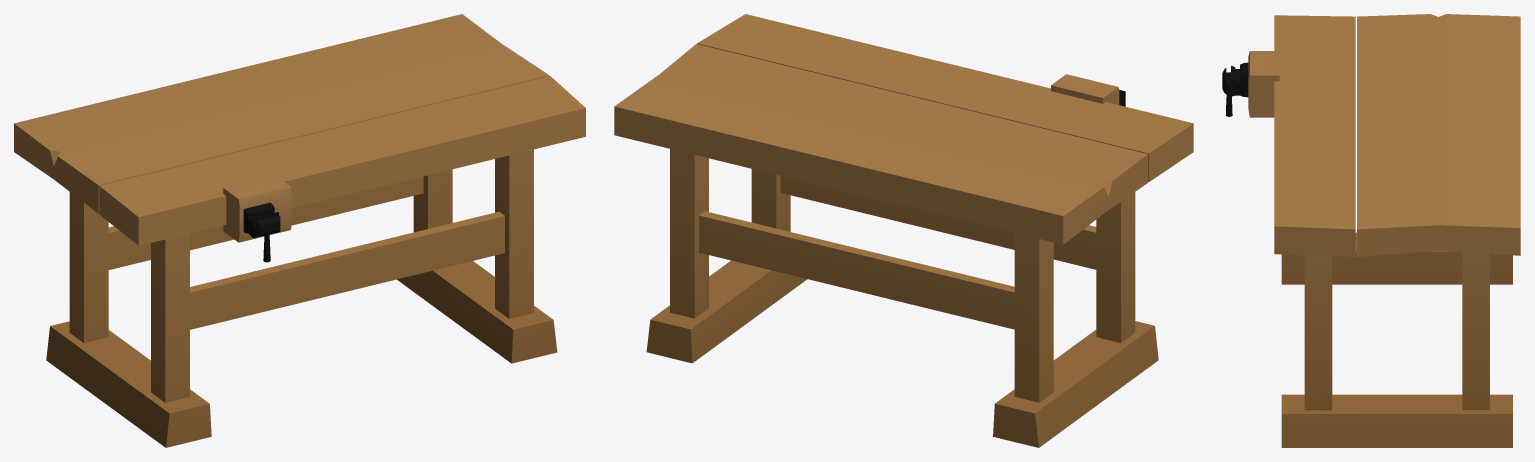
Rendered from table1.FBX.
The picture shows the model from 3 angles, left to right: view 1: azimuth 30°, elevation 25°; view 2: azimuth 150°, elevation 25°; view 3: azimuth 270°, elevation 25°; orthographic projection. The views are drawn at different scales.
Visible parts, largest first — view 1: Box017; view 2: Box017; view 3: Box017.
Boxes of the visible parts, x1,y1,x2,y2 form: Box017: (14, 14, 585, 447); Box017: (614, 14, 1193, 447); Box017: (1222, 14, 1520, 447).
Bounding box in the file's own units: 311 × 183 × 162.
